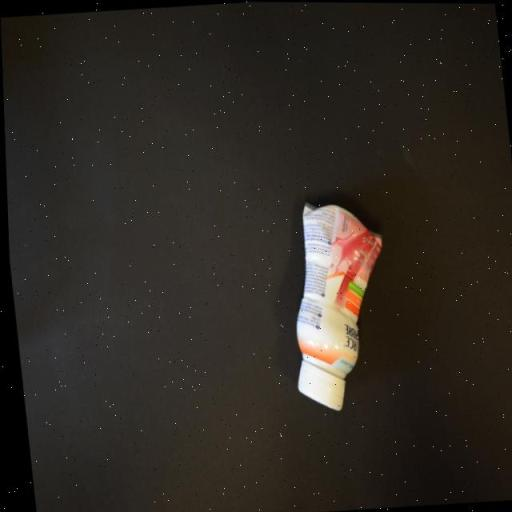plastic: (278, 196, 396, 413)
